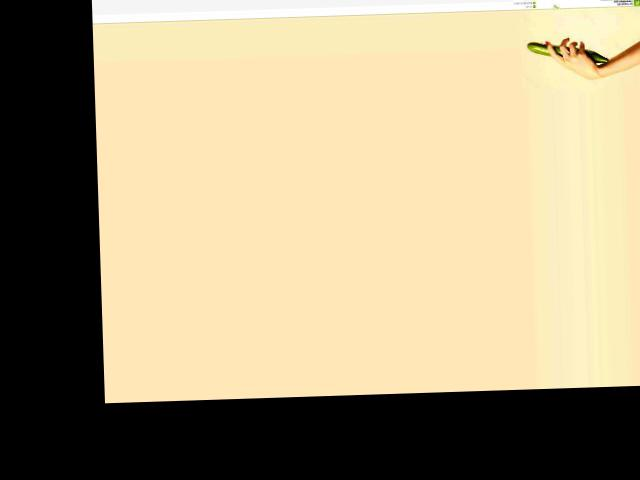cucumber: (527, 38, 609, 64)
